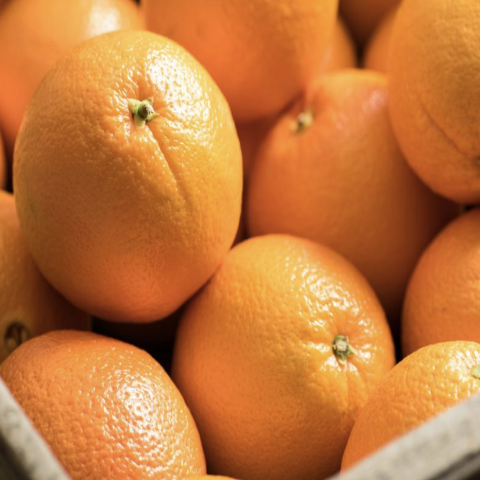orange: (5, 4, 257, 334), (161, 206, 411, 479)
